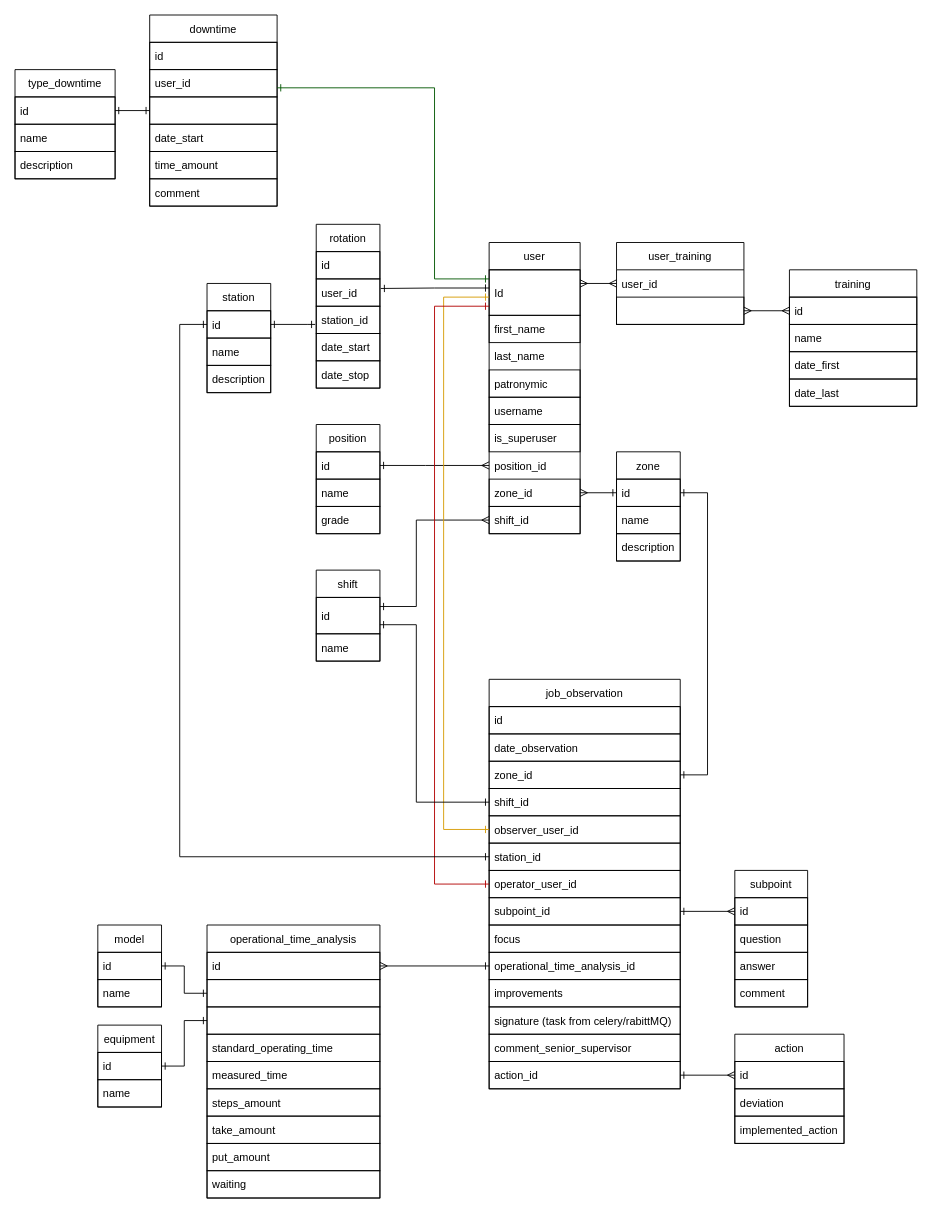
The diagram is 932 pixels wide and 1213 high, and some of its shapes have lost their labels. Each missing label, with the centre of its shape:
equipment_id: the point at 293,1020
model_id: the point at 293,993
training_id: the point at 680,310
type_downtime_id: the point at 213,110
